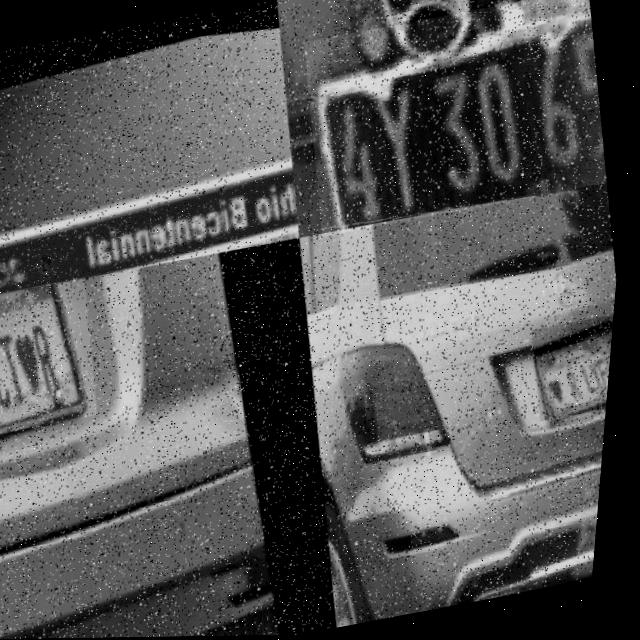LicensePlate: (292, 0, 622, 237), (0, 276, 113, 436), (531, 315, 619, 423)
